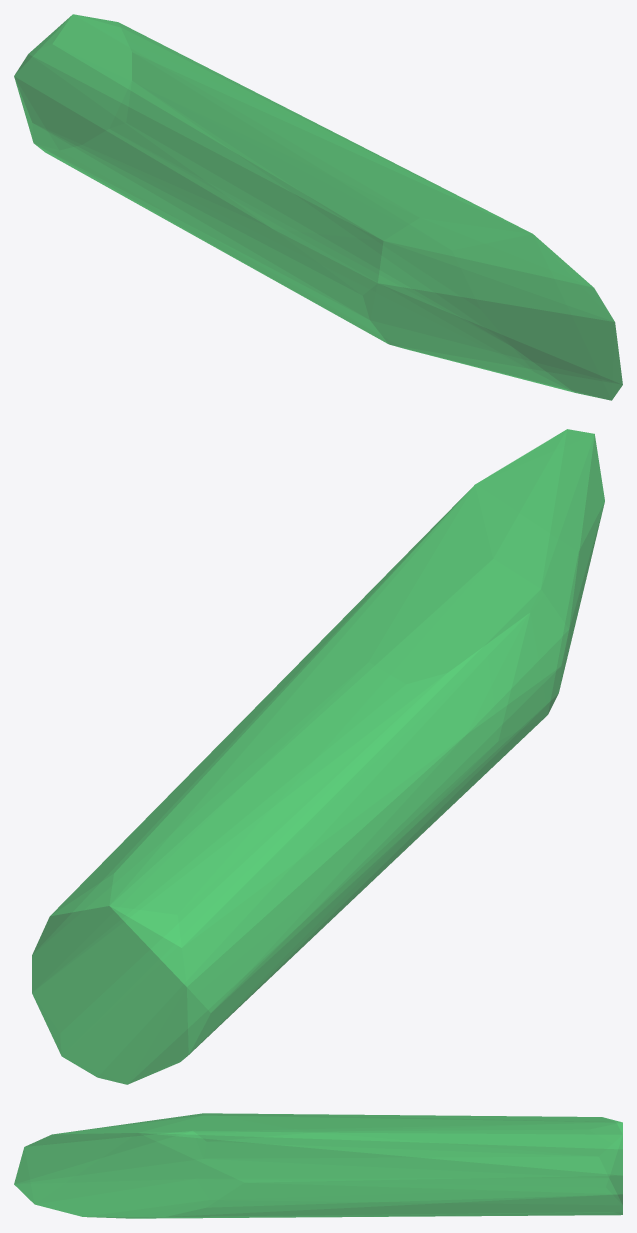
3 renders of one model, top to bottom at view 1: azimuth 30°, elevation 25°; view 2: azimuth 150°, elevation 25°; view 3: azimuth 270°, elevation 25°, orthographic. The views are drawn at different scales.
Parts seen in each view (by area): view 1: Shape_IndexedFaceSet.001_Shape_IndexedFaceSet.4843; view 2: Shape_IndexedFaceSet.001_Shape_IndexedFaceSet.4843; view 3: Shape_IndexedFaceSet.001_Shape_IndexedFaceSet.4843.
Part boxes in pixels (x1,y1,x2,y2): Shape_IndexedFaceSet.001_Shape_IndexedFaceSet.4843: (14, 14, 622, 400); Shape_IndexedFaceSet.001_Shape_IndexedFaceSet.4843: (32, 429, 604, 1084); Shape_IndexedFaceSet.001_Shape_IndexedFaceSet.4843: (14, 1113, 622, 1218).
Size of the model in its own units: 0.0479 by 0.0493 by 0.2568.
